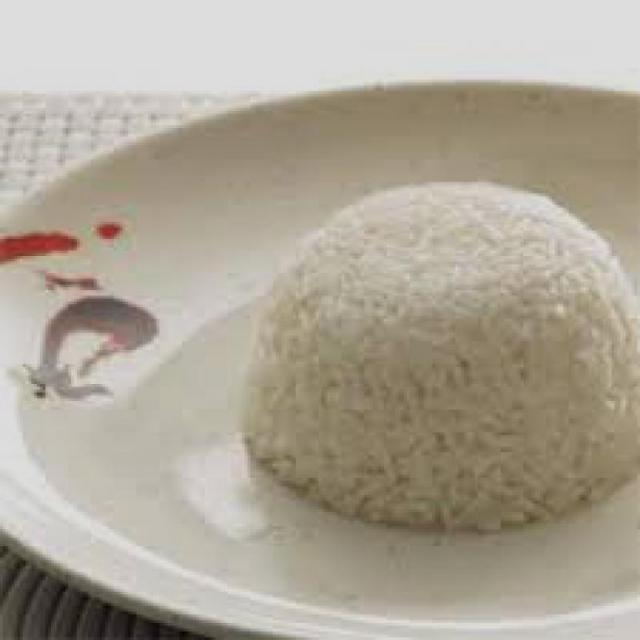rice: (239, 183, 638, 538)
